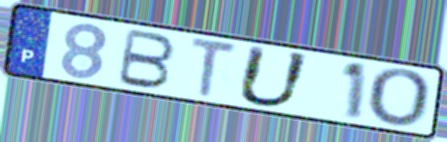1: (339, 61, 371, 122)
8: (60, 21, 110, 81)
B: (114, 26, 178, 91)
O: (366, 66, 435, 131)
T: (188, 35, 240, 101)
U: (233, 43, 315, 110)
